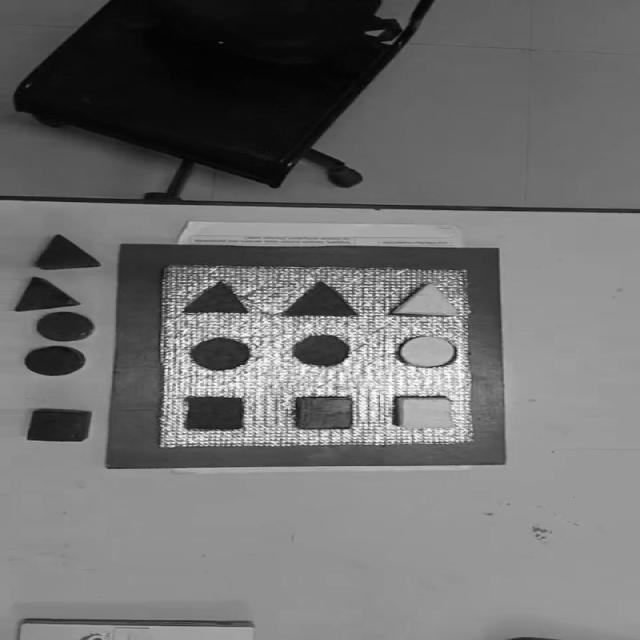bcircle: (23, 345, 87, 376)
bcube: (26, 408, 93, 442)
btriangle: (14, 276, 80, 312)
mtcircle: (190, 336, 252, 371), (291, 334, 353, 367)
mtcube: (184, 396, 246, 430)
mttriangle: (284, 280, 362, 318), (184, 279, 252, 316)
rcircle: (37, 311, 94, 342)
rcube: (294, 396, 354, 429)
rtriangle: (36, 234, 101, 271)
wb: (155, 264, 478, 447)
ycircle: (397, 336, 458, 368)
ycube: (393, 396, 456, 430)
ytriangle: (390, 282, 465, 317)
